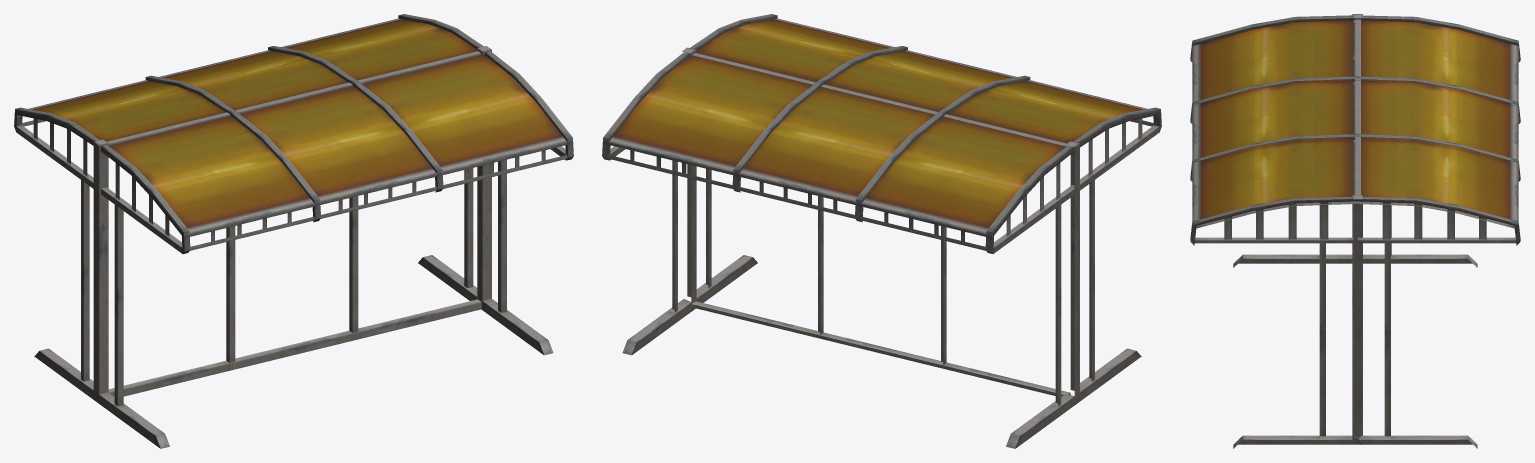
The model's file is zc_lekesigang_peng02.FBX.
3 renders of one model, left to right at view 1: azimuth 30°, elevation 25°; view 2: azimuth 150°, elevation 25°; view 3: azimuth 270°, elevation 25°, orthographic. The views are drawn at different scales.
Parts seen in each view (by area): view 1: zc_lekesigang_peng02; view 2: zc_lekesigang_peng02; view 3: zc_lekesigang_peng02.
Boxes of the visible parts, x1,y1,x2,y2 form: zc_lekesigang_peng02: (14,14,573,448); zc_lekesigang_peng02: (602,14,1161,448); zc_lekesigang_peng02: (1190,14,1520,448).
Bounding box in the file's own units: 784 × 493 × 590.
